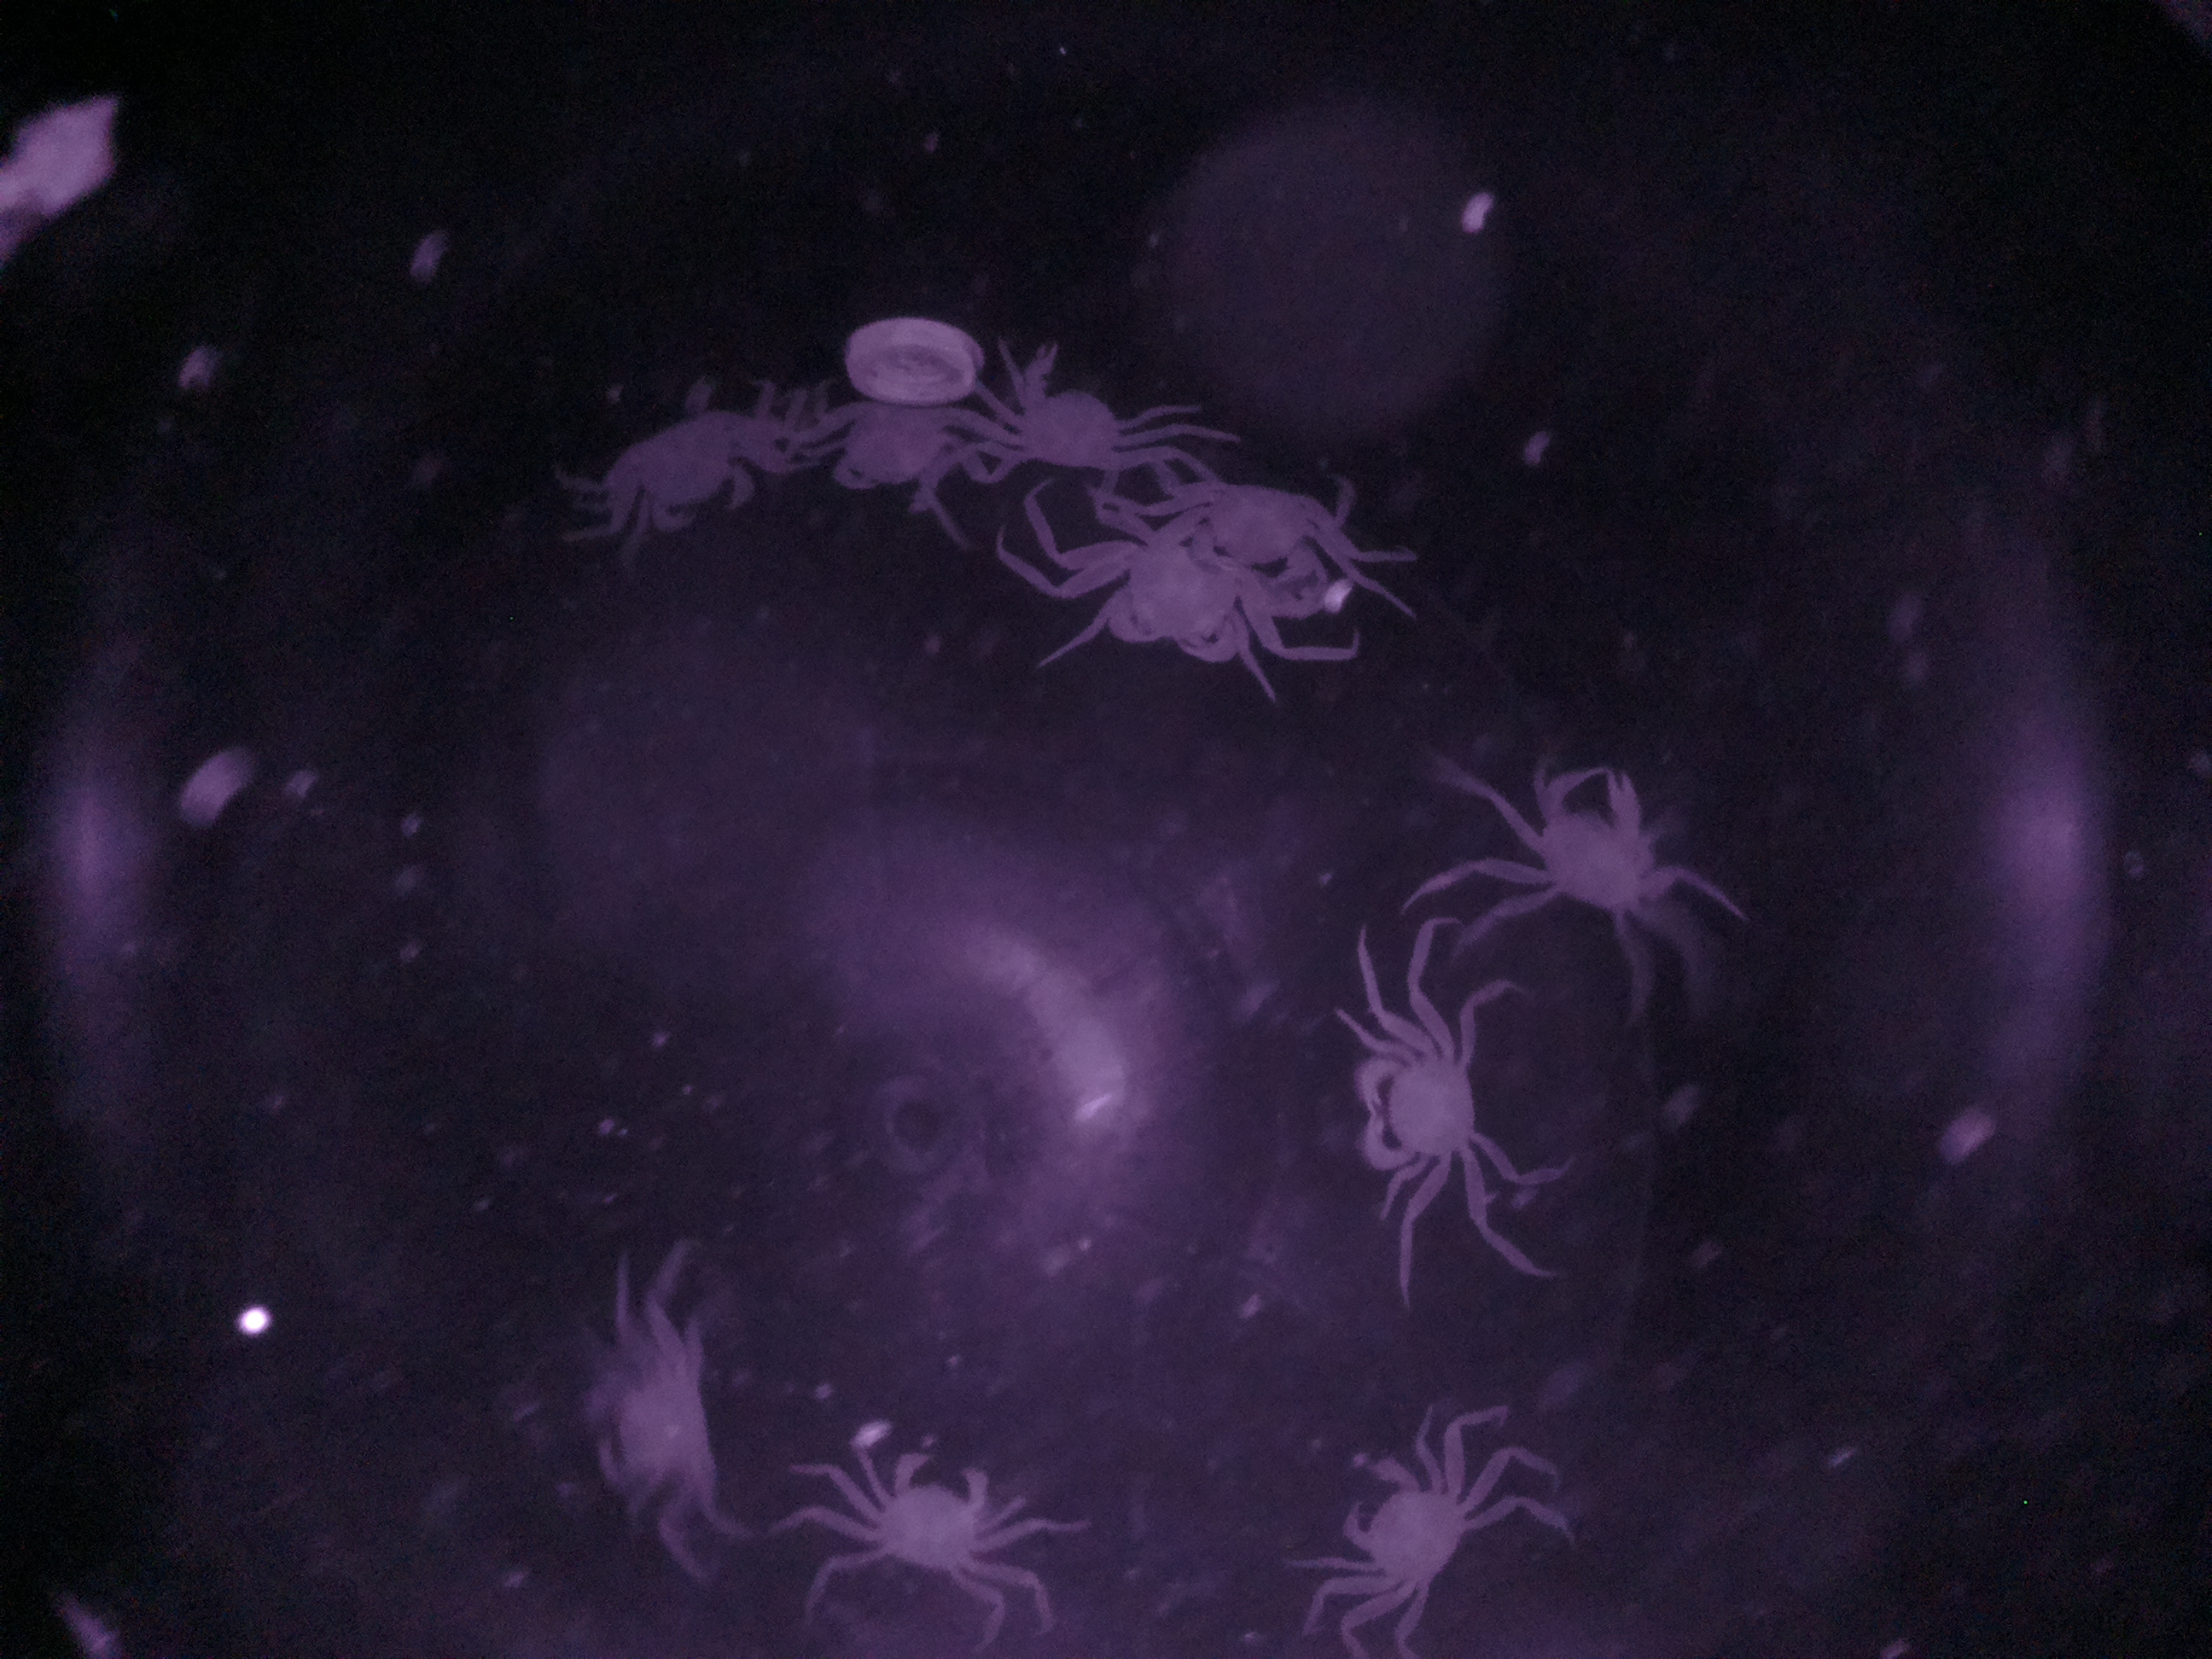Crab: (1489, 732, 1698, 948), (836, 1424, 1026, 1610), (1346, 999, 1501, 1227), (1313, 1431, 1498, 1617)
